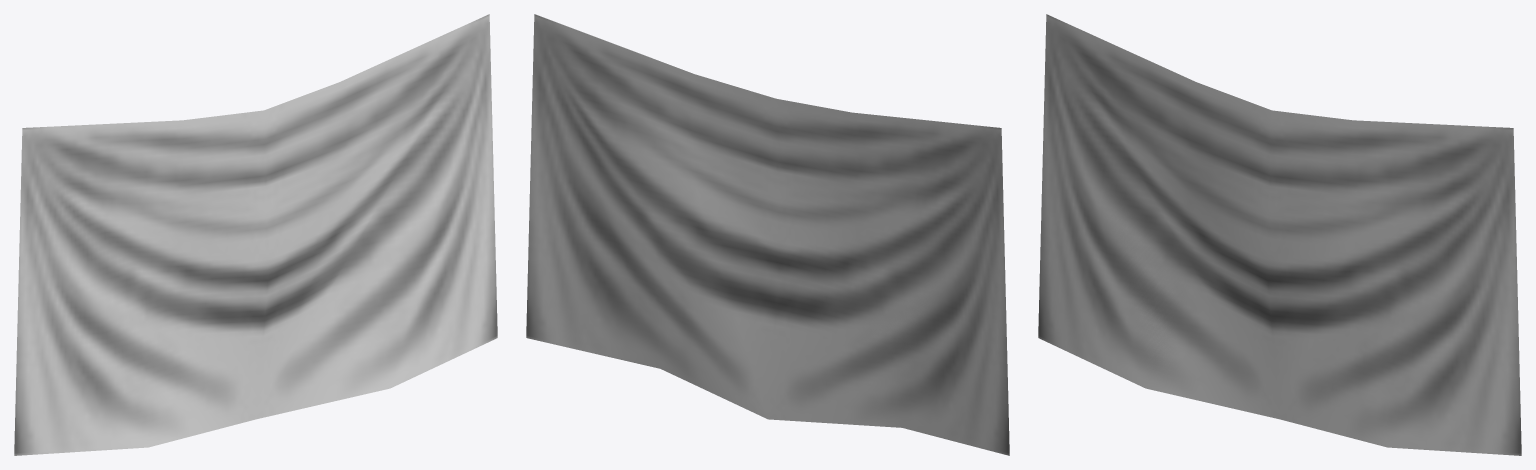
The model's file is flag_hanging_french.fbx.
The picture shows the model from 3 angles, left to right: view 1: azimuth 30°, elevation 25°; view 2: azimuth 150°, elevation 25°; view 3: azimuth 330°, elevation 25°; orthographic projection.
Parts seen in each view (by area): view 1: flag_hanging_back, flag_hanging; view 2: flag_hanging_back, flag_hanging; view 3: flag_hanging_back, flag_hanging.
Boxes of the visible parts, x1,y1,x2,y2 form: flag_hanging_back: (14, 14, 497, 455); flag_hanging: (15, 16, 497, 453); flag_hanging_back: (526, 14, 1009, 455); flag_hanging: (526, 15, 1009, 454); flag_hanging_back: (1038, 14, 1521, 455); flag_hanging: (1040, 15, 1521, 455).
Size of the model in its own units: 1247 by 858 by 59.92.
Materials: 1 (1 with a texture image).
